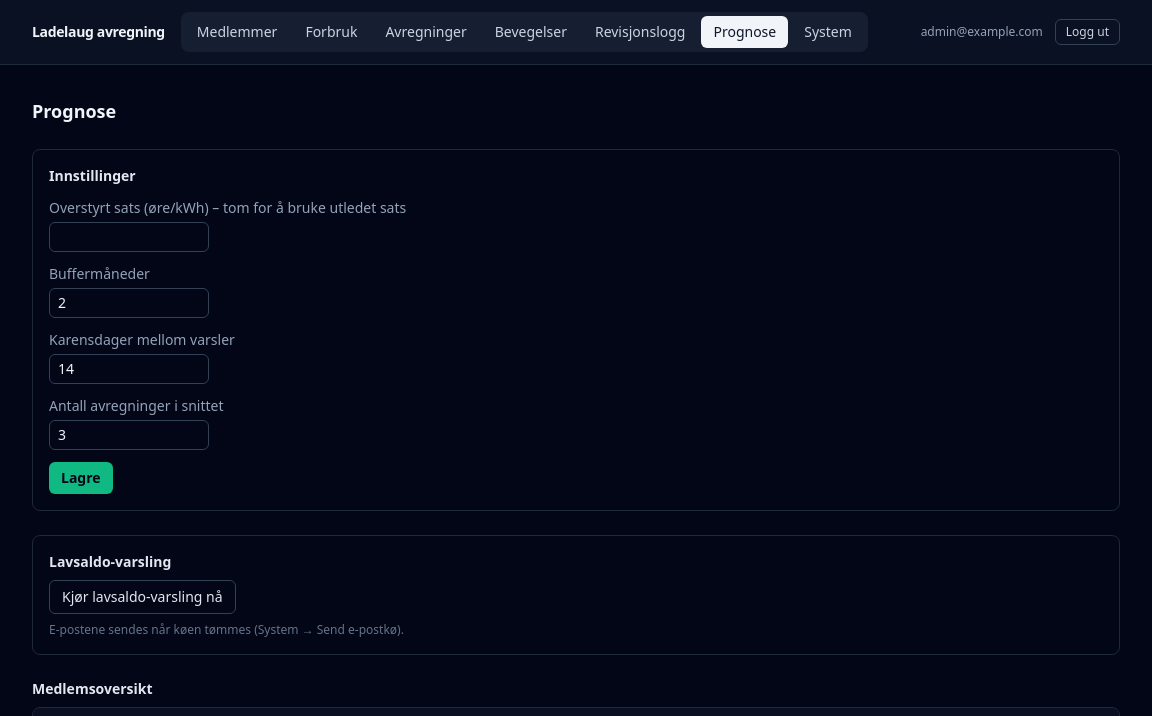
Scenario: ForecastSettings (admin) › runs the low-balance scan and renders the returned counts
Click the button "Kjør lavsaldo-varsling nå".
click(142, 597)  # box [49,580,236,614]
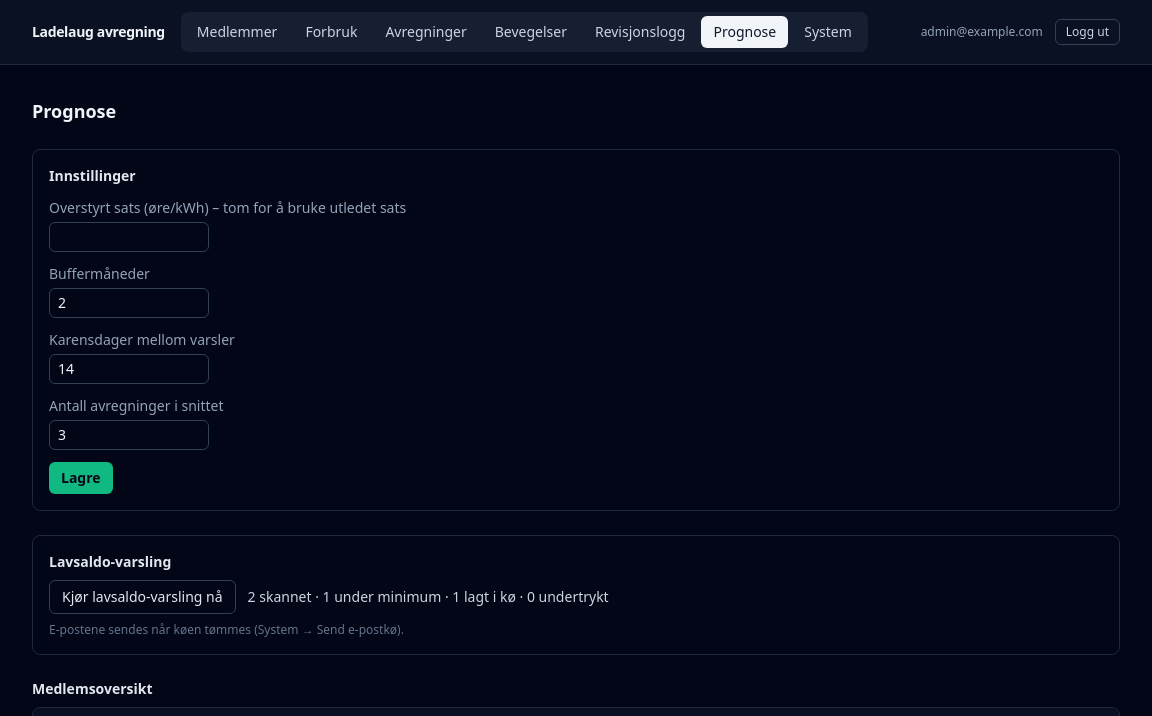
Check: the text "2 skannet · 1 under minimum · 1 lagt i kø · 0 undertrykt" is shown, box [248,587,609,607]
